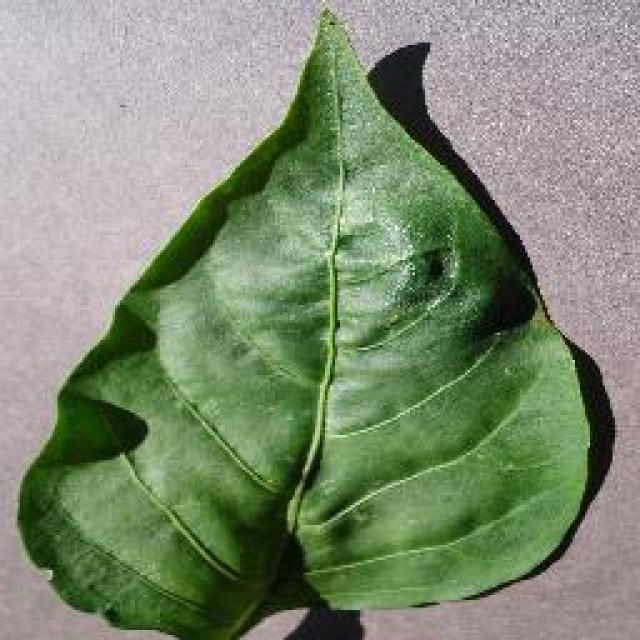Chilli_Healthy: (15, 2, 613, 638)
